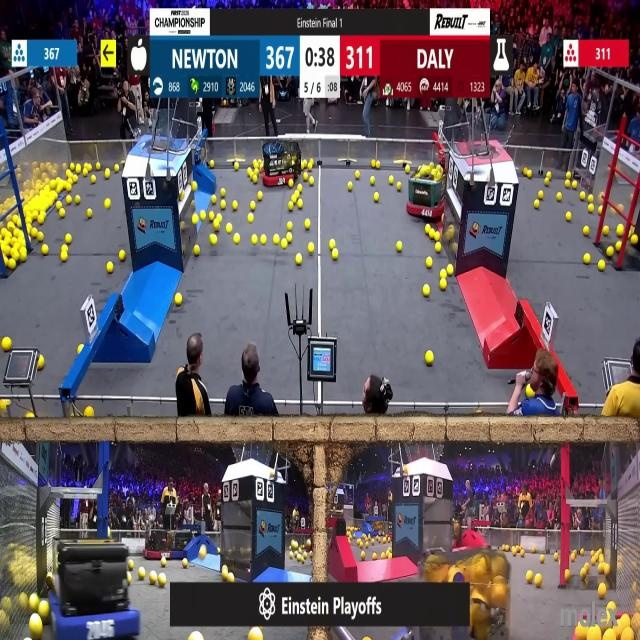ball_airborne: (30, 617, 43, 640)
ball_ground: (39, 601, 49, 617), (588, 629, 602, 640), (574, 626, 584, 640), (250, 629, 262, 640), (2, 338, 11, 352), (598, 585, 606, 600), (425, 351, 433, 365), (18, 248, 26, 262), (159, 573, 167, 586), (86, 408, 95, 419), (37, 355, 44, 369), (526, 386, 534, 398), (446, 230, 454, 242), (618, 223, 625, 236), (422, 285, 430, 296), (175, 292, 182, 304), (426, 256, 433, 268), (210, 234, 217, 246), (534, 574, 541, 586), (149, 571, 156, 583), (212, 220, 220, 230), (631, 236, 639, 246), (118, 250, 125, 261), (0, 399, 7, 410), (579, 568, 586, 579), (448, 266, 454, 278), (309, 242, 315, 254), (564, 568, 570, 580), (221, 565, 227, 577), (602, 225, 609, 235), (598, 262, 605, 272), (441, 280, 448, 290), (606, 247, 613, 257), (226, 572, 233, 582), (37, 233, 44, 243), (607, 601, 614, 611), (8, 260, 15, 270), (107, 263, 113, 274), (235, 234, 241, 245), (295, 253, 301, 264), (252, 235, 258, 246), (201, 548, 207, 559), (527, 571, 533, 582), (38, 212, 44, 223), (596, 565, 602, 576), (42, 245, 48, 255), (226, 222, 232, 232), (585, 253, 591, 263), (192, 245, 198, 255), (66, 235, 72, 245), (331, 250, 337, 260), (233, 201, 239, 211), (328, 240, 334, 250), (139, 568, 145, 578), (618, 242, 624, 252), (584, 225, 590, 235), (62, 252, 68, 262), (396, 242, 402, 252), (274, 236, 280, 246), (260, 236, 266, 246), (442, 270, 448, 280), (604, 564, 610, 574), (129, 560, 135, 570), (448, 240, 454, 250), (32, 230, 38, 240), (58, 182, 64, 192), (564, 180, 571, 188), (250, 202, 256, 211), (286, 221, 292, 230), (182, 559, 188, 568), (556, 191, 562, 200), (434, 233, 440, 242), (191, 215, 197, 224), (66, 182, 72, 191), (75, 166, 81, 175), (428, 231, 434, 240), (248, 213, 253, 223), (88, 209, 93, 219), (306, 219, 311, 229), (287, 234, 292, 244), (435, 243, 440, 253), (566, 212, 571, 222), (128, 573, 133, 583), (256, 191, 262, 199), (162, 559, 168, 567), (348, 182, 354, 190), (282, 241, 288, 249), (579, 191, 585, 199), (220, 188, 226, 196), (372, 194, 378, 202), (566, 172, 572, 180), (201, 212, 207, 220), (216, 214, 222, 222), (72, 175, 78, 183), (291, 192, 297, 200), (66, 170, 72, 178), (82, 168, 88, 176), (78, 345, 84, 353), (61, 209, 66, 218), (105, 200, 110, 209), (571, 180, 576, 189), (220, 200, 225, 209), (369, 176, 374, 185), (425, 224, 430, 233), (539, 555, 544, 564), (355, 171, 360, 180), (210, 161, 215, 170), (589, 193, 594, 202), (555, 553, 560, 562), (105, 170, 110, 179), (534, 200, 539, 209), (212, 194, 217, 203), (209, 212, 214, 221), (388, 177, 394, 184), (598, 207, 604, 214), (28, 414, 34, 421), (92, 175, 97, 183), (589, 205, 594, 213), (288, 204, 293, 212), (191, 182, 196, 190), (67, 197, 72, 205), (235, 164, 240, 172), (396, 182, 401, 190), (360, 552, 365, 560), (371, 554, 376, 562), (247, 169, 252, 177), (527, 170, 532, 178), (406, 165, 411, 173), (288, 180, 293, 188), (370, 162, 375, 170), (376, 162, 381, 170), (180, 221, 185, 229), (592, 558, 597, 566), (4, 257, 9, 265), (76, 197, 80, 206), (381, 554, 387, 560), (114, 166, 119, 173), (307, 180, 312, 187), (252, 176, 257, 183), (570, 555, 575, 562), (57, 202, 62, 209), (538, 190, 542, 198), (297, 201, 301, 209), (298, 183, 302, 191), (97, 164, 101, 172), (580, 550, 584, 558), (307, 161, 311, 169), (544, 178, 548, 185), (546, 172, 550, 179), (532, 545, 536, 552), (289, 553, 293, 560), (514, 550, 518, 557), (217, 547, 221, 553), (388, 554, 392, 560), (522, 552, 525, 559)
goal: (461, 118, 516, 158), (128, 117, 186, 152)
robot_blue: (51, 540, 136, 638), (166, 527, 196, 558)
robot_red: (407, 163, 446, 220), (262, 138, 304, 185), (143, 530, 169, 558)
